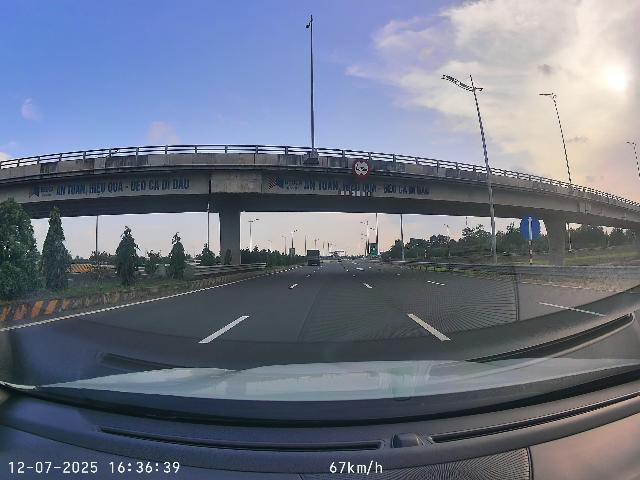301a-cac-xe-chi-duoc-di-thang: (520, 214, 541, 239)
